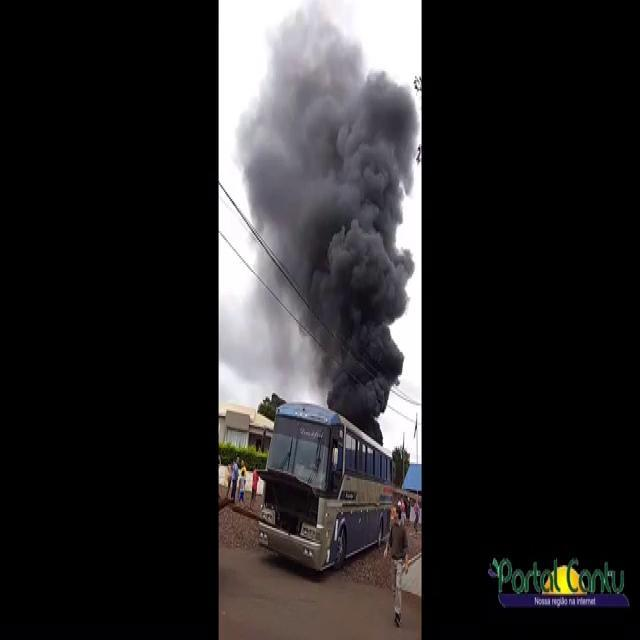Smoke: (240, 7, 420, 446)
